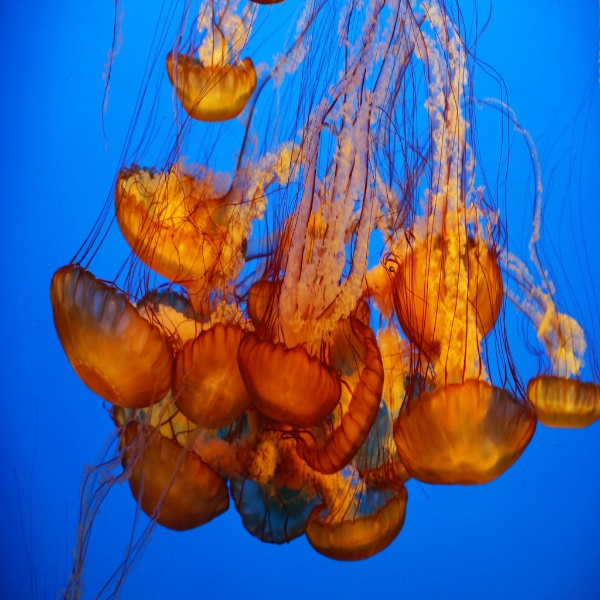Jellyfish: (47, 0, 599, 599), (164, 0, 271, 121)
